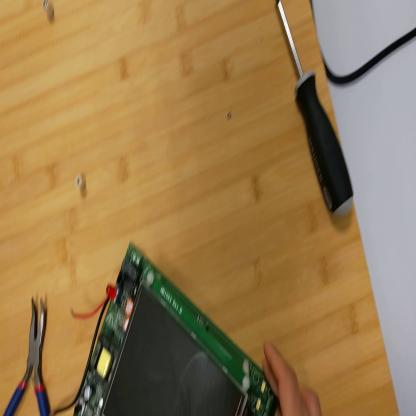hand: (261, 339, 323, 415)
low voltage board: (64, 239, 277, 416)
pliers: (4, 297, 51, 416)
screwdriver-: (278, 1, 354, 220)
working area: (2, 3, 399, 413)
